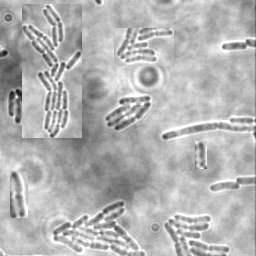Dividing: (161, 123, 255, 142), (10, 171, 28, 218), (221, 41, 248, 52)
Microcolony: (22, 4, 82, 138), (51, 200, 147, 255), (162, 212, 231, 255), (114, 28, 174, 66), (106, 96, 153, 132), (208, 182, 240, 193)
Rod: (195, 141, 207, 169)
